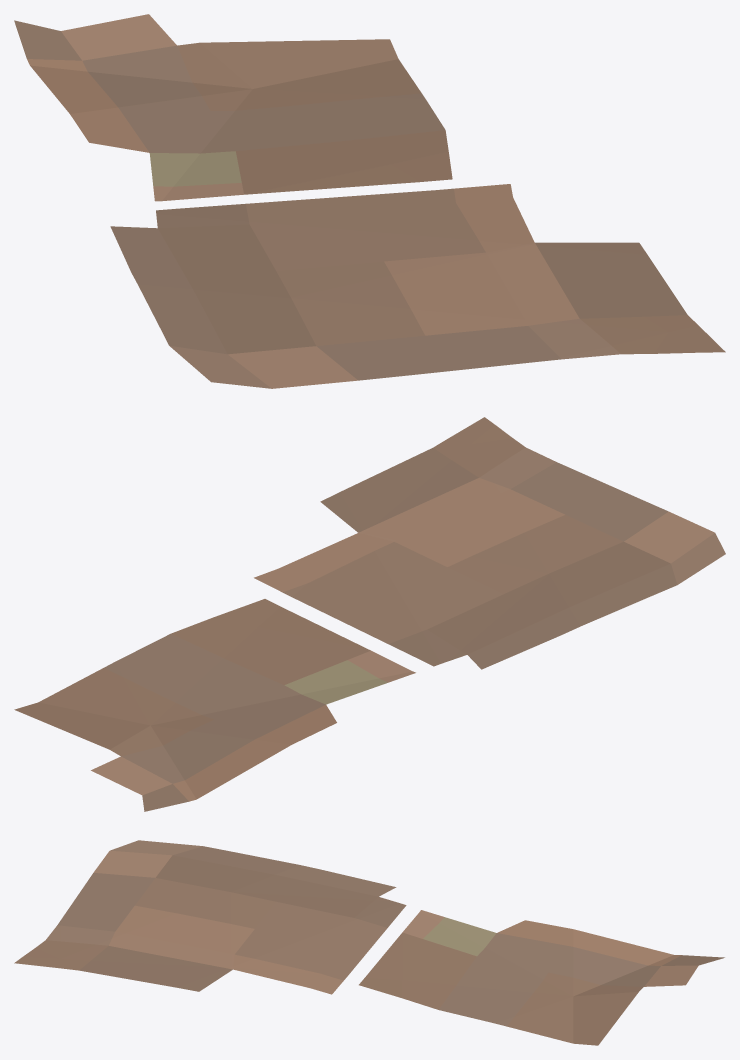
Rendered from farm_12_7_soil.glb.
3 renders of one model, top to bottom at view 1: azimuth 30°, elevation 25°; view 2: azimuth 150°, elevation 25°; view 3: azimuth 270°, elevation 25°, orthographic. The views are drawn at different scales.
Visible parts, largest first — view 1: geometry_0; view 2: geometry_0; view 3: geometry_0.
Boxes of the visible parts, left/top/right/bottom form: geometry_0: left=14, top=14, right=725, bottom=388; geometry_0: left=14, top=417, right=725, bottom=811; geometry_0: left=14, top=840, right=724, bottom=1045.
Bounding box in the file's own units: 184 × 22 × 333.
